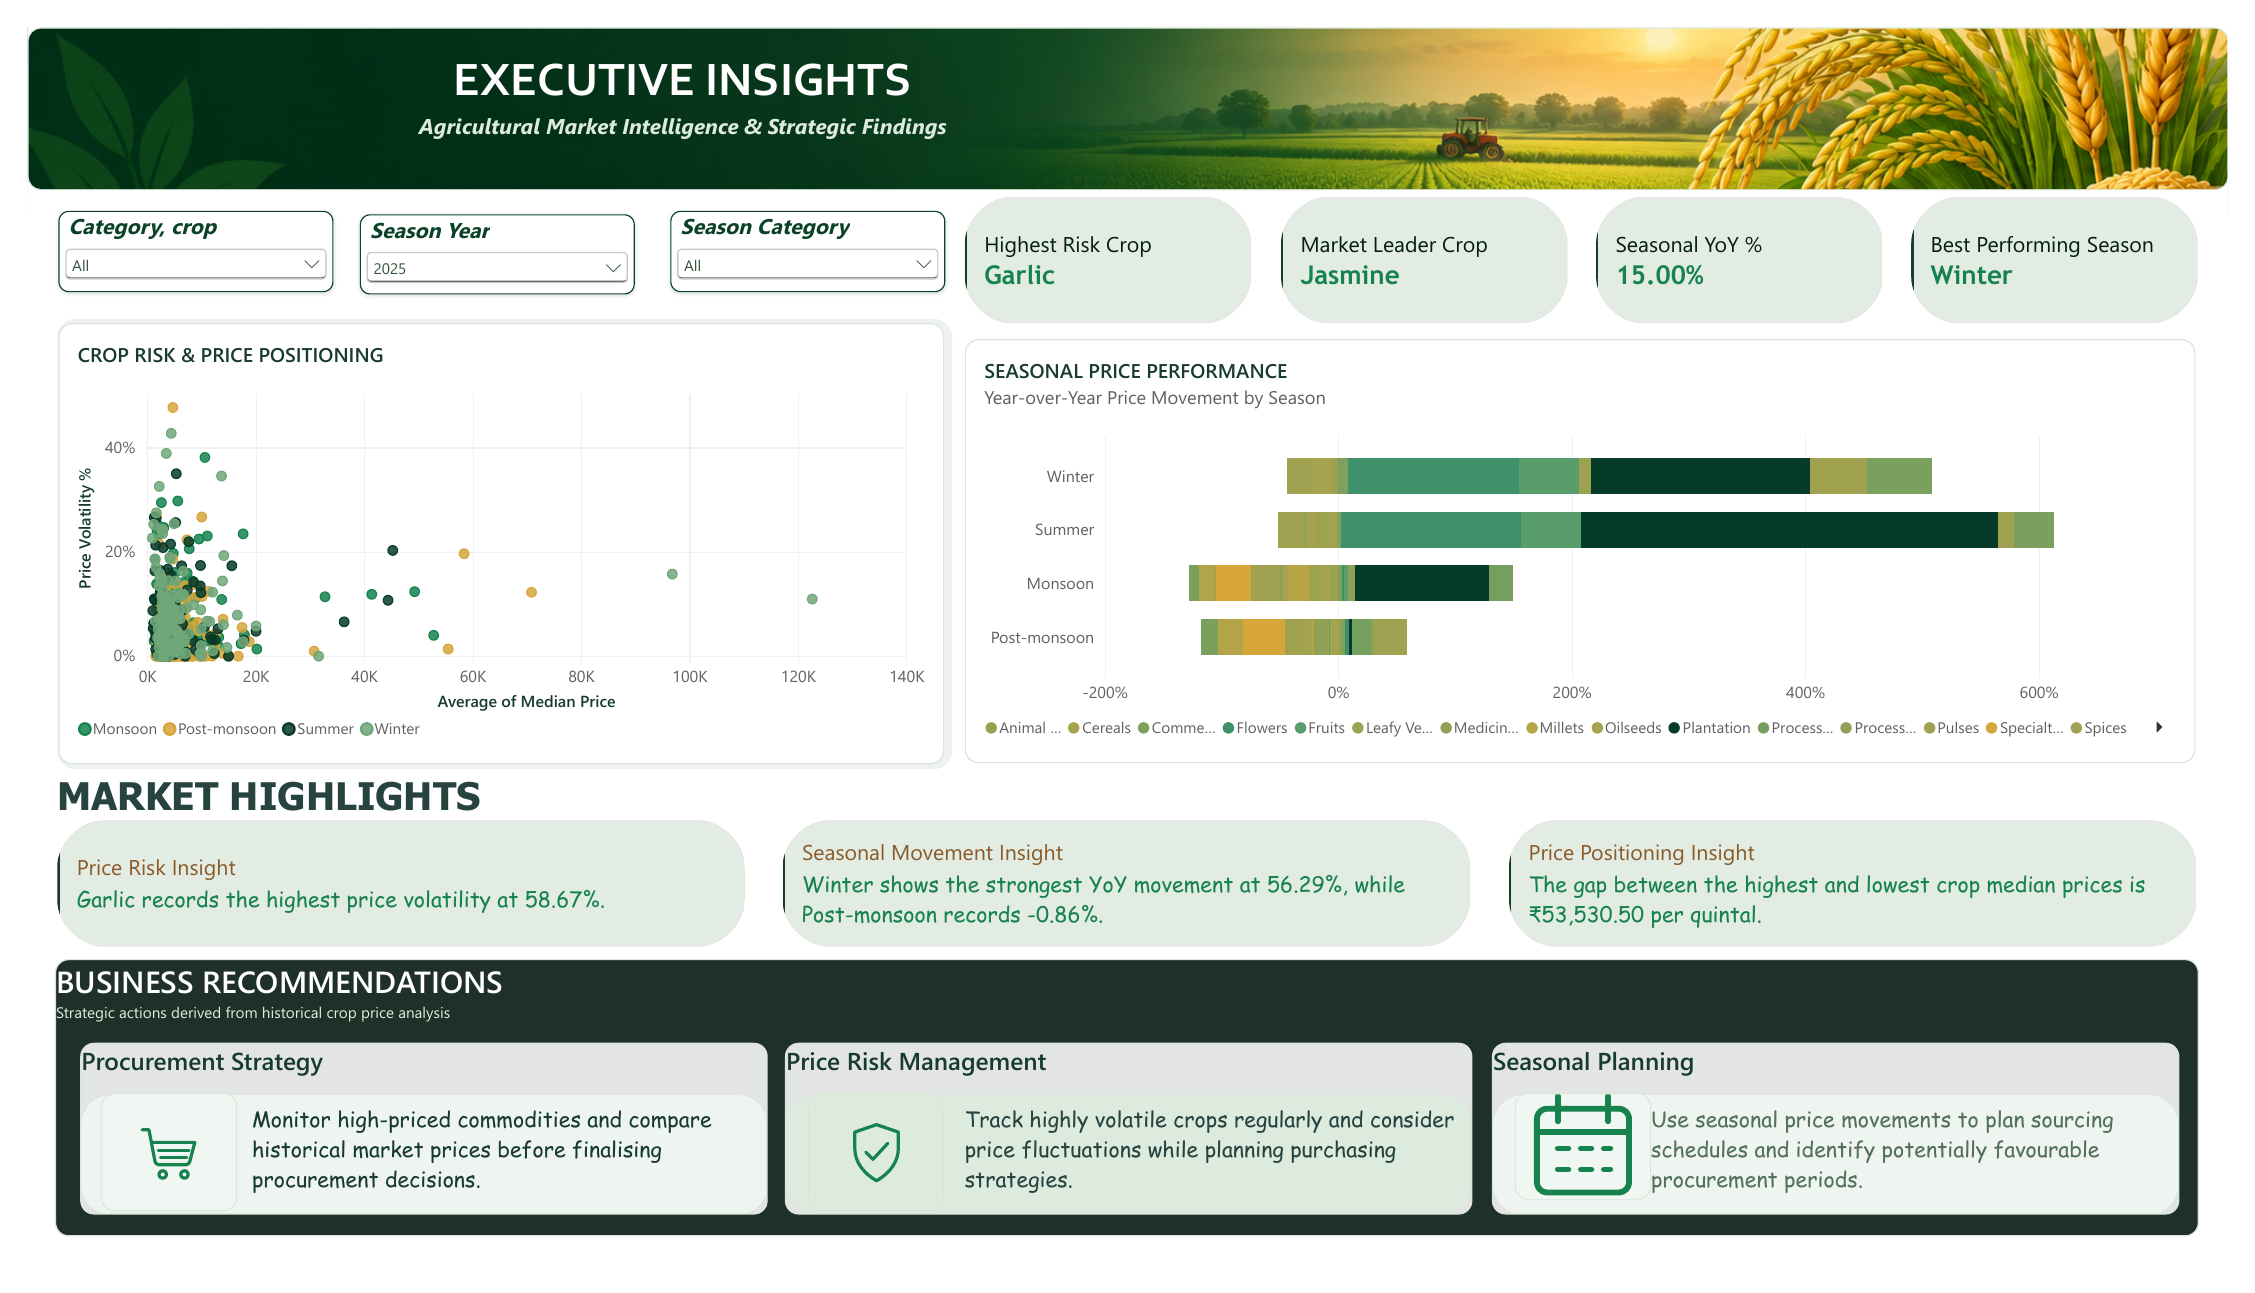

This screenshot's page, from the dashboard's own definition file:
{"tool":"powerbi","page":{"name":"EXECUTIVE INSIGHTS","canvas":[1920,1080],"ordinal":2},"visuals":[{"type":"image","box":[0,0,1920.8,141.6],"z":0},{"type":"scatterChart","title":"CROP RISK & PRICE POSITIONING","fields":{"Category":["mandi.crop"],"Series":["mandi.Season"],"X":["mandi.Median Price"],"Y":["mandi.Price Volatility %"]},"box":[27.5,258.1,772.6,384.5],"z":2000},{"type":"textbox","title":"EXECUTIVE INSIGHTS","box":[166.9,4.2,793.7,158.4],"z":3000},{"type":"slicer","fields":{"Values":["mandi-india-monthly.Season Year"]},"box":[289.6,162.5,240,70],"z":6000},{"type":"slicer","fields":{"Values":["mandi-india-monthly.crop"]},"box":[27.1,160.4,240,70.4],"z":7000},{"type":"slicer","fields":{"Values":["mandi.Season Category"]},"box":[560.5,160.4,240,70.4],"z":8000},{"type":"textbox","box":[14.6,1054.4,835.6,25],"z":9000},{"type":"cardVisual","title":"Selected Crop Historical CV (%)","fields":{"Data":["MEASURES (2).Highest Risk Crop"]},"box":[818.4,148.3,250,110],"z":10000},{"type":"cardVisual","title":"Selected Crop Historical CV (%)","fields":{"Data":["MEASURES (2).Best Performing Season"]},"box":[1644.1,148.3,250,110],"z":11000},{"type":"cardVisual","title":"Selected Crop Historical CV (%)","fields":{"Data":["mandi.Seasonal YoY %"]},"box":[1368.9,148.3,250,110],"z":12000},{"type":"cardVisual","title":"Top Crop","fields":{"Data":["MEASURES (2).Highest median price"]},"box":[1093.6,148.3,250,110],"z":13000},{"type":"cardVisual","title":"Selected Crop Historical CV (%)","fields":{"Data":["MEASURES (2).Price Positioning Insight"]},"box":[1293,692,600,110],"z":14000},{"type":"cardVisual","title":"Selected Crop Historical CV (%)","fields":{"Data":["MEASURES (2).Seasonal Movement Insight"]},"box":[659.5,692,600,110],"z":15000},{"type":"cardVisual","title":"Selected Crop Historical CV (%)","fields":{"Data":["MEASURES (2).Price Risk Insight"]},"box":[26,692,600.5,110],"z":16000},{"type":"clusteredBarChart","title":"\tSEASONAL PRICE PERFORMANCE","fields":{"Category":["mandi.Season Category"],"Y":["mandi.Seasonal YoY %"]},"box":[818.4,272.8,1076.5,369.8],"z":17000},{"type":"textbox","title":"       MARKET HIGHLIGHTS","box":[25.6,650,1867.4,60.4],"z":18000},{"type":"textbox","title":"BUSINESS RECOMMENDATIONS","box":[23.8,812.9,1871.1,241.7],"z":19000},{"type":"shape","title":"Procurement Strategy","box":[45.8,886.1,600.5,150.1],"z":20000},{"type":"shape","title":"Seasonal Planning","box":[1277.9,886.1,600,150],"z":21000},{"type":"shape","title":"Price Risk Management","box":[660.9,886.1,600,150],"z":22000},{"type":"textbox","box":[195.9,939.2,430.2,89.7],"z":23000},{"type":"textbox","box":[818.4,939.2,441.2,84.2],"z":24000},{"type":"textbox","box":[1417.1,939.2,461.4,86],"z":25000},{"type":"actionButton","box":[1298.1,930.1,119,93.4],"z":26000},{"type":"actionButton","box":[64.1,930.1,119,102.5],"z":27000},{"type":"actionButton","box":[681.1,930.1,119,102.5],"z":28000}]}

Visuals, with their boxes in screenshot pixels (x1, y1, x2, y2), scaled from the page's 1920x1080 canvas onto the 2255x1293 screenshot:
image: bbox=[0, 0, 2254, 170]
"CROP RISK & PRICE POSITIONING" scatterChart: bbox=[32, 309, 940, 769]
"EXECUTIVE INSIGHTS" textbox: bbox=[196, 5, 1128, 195]
slicer - mandi-india-monthly.Season Year: bbox=[340, 195, 622, 278]
slicer - mandi-india-monthly.crop: bbox=[32, 192, 314, 276]
slicer - mandi.Season Category: bbox=[658, 192, 940, 276]
textbox: bbox=[17, 1262, 999, 1292]
"Selected Crop Historical CV (%)" cardVisual: bbox=[961, 178, 1255, 309]
"Selected Crop Historical CV (%)" cardVisual: bbox=[1931, 178, 2225, 309]
"Selected Crop Historical CV (%)" cardVisual: bbox=[1608, 178, 1901, 309]
"Top Crop" cardVisual: bbox=[1284, 178, 1578, 309]
"Selected Crop Historical CV (%)" cardVisual: bbox=[1519, 828, 2223, 960]
"Selected Crop Historical CV (%)" cardVisual: bbox=[775, 828, 1479, 960]
"Selected Crop Historical CV (%)" cardVisual: bbox=[31, 828, 736, 960]
"	SEASONAL PRICE PERFORMANCE" clusteredBarChart: bbox=[961, 327, 2226, 769]
"       MARKET HIGHLIGHTS" textbox: bbox=[30, 778, 2223, 851]
"BUSINESS RECOMMENDATIONS" textbox: bbox=[28, 973, 2226, 1263]
"Procurement Strategy" shape: bbox=[54, 1061, 759, 1241]
"Seasonal Planning" shape: bbox=[1501, 1061, 2206, 1240]
"Price Risk Management" shape: bbox=[776, 1061, 1481, 1240]
textbox: bbox=[230, 1124, 735, 1232]
textbox: bbox=[961, 1124, 1479, 1225]
textbox: bbox=[1664, 1124, 2206, 1227]
actionButton: bbox=[1525, 1114, 1664, 1225]
actionButton: bbox=[75, 1114, 215, 1236]
actionButton: bbox=[800, 1114, 940, 1236]
